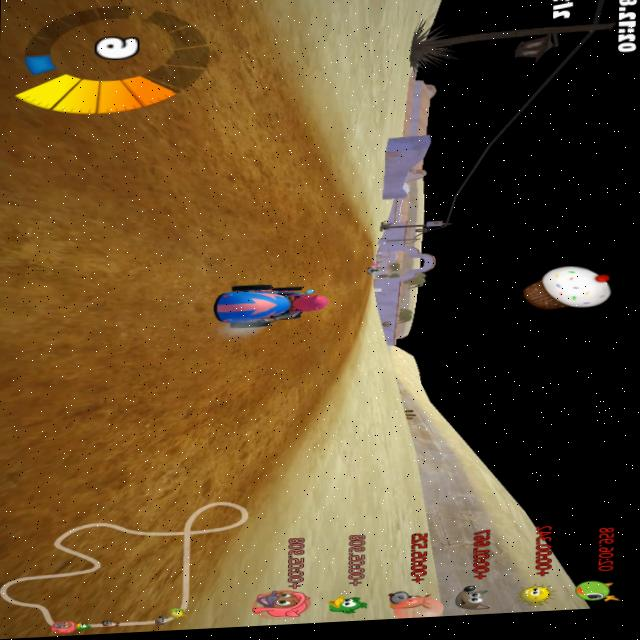player_kart: (212, 280, 328, 330)
track: (0, 0, 206, 638), (198, 127, 337, 285), (200, 327, 281, 479), (190, 22, 286, 135), (284, 325, 323, 438), (197, 479, 230, 597), (336, 272, 360, 362), (337, 233, 382, 280), (323, 324, 350, 380), (333, 193, 360, 235), (206, 0, 248, 26), (365, 279, 372, 324)
